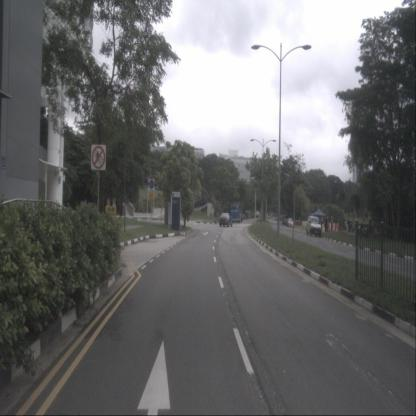human-pedestrian-adult: (318, 216, 322, 232)
vehicle-bus-rigid: (230, 201, 241, 224)
vehicle-car: (306, 216, 322, 238), (219, 213, 233, 227), (287, 218, 294, 228)
vehicle-truck: (283, 214, 290, 226)
